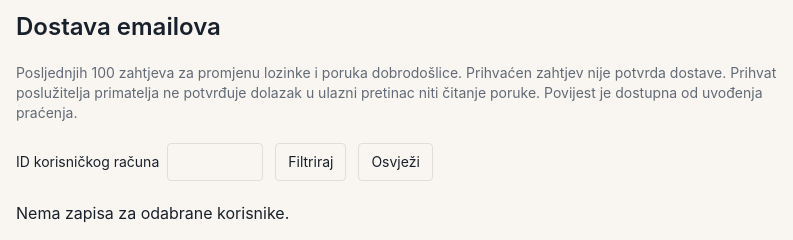
Scenario: handles loading, empty and failure states in the admin delivery view
Later steps or results of the test are not shown.
Step 1. Click the button "Osvježi" → click(396, 162), box [358,143,433,181]
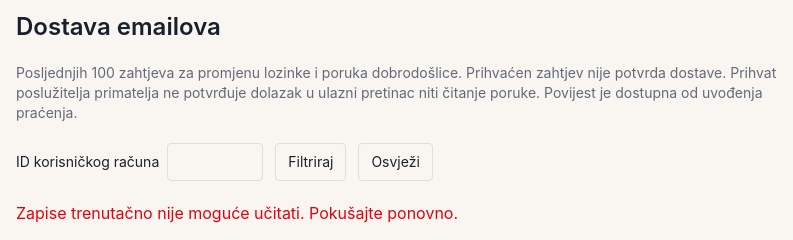
Expected: the message "Zapise trenutačno nije moguće učitati. Pokušajte ponovno." is shown, [16,203,458,223]
